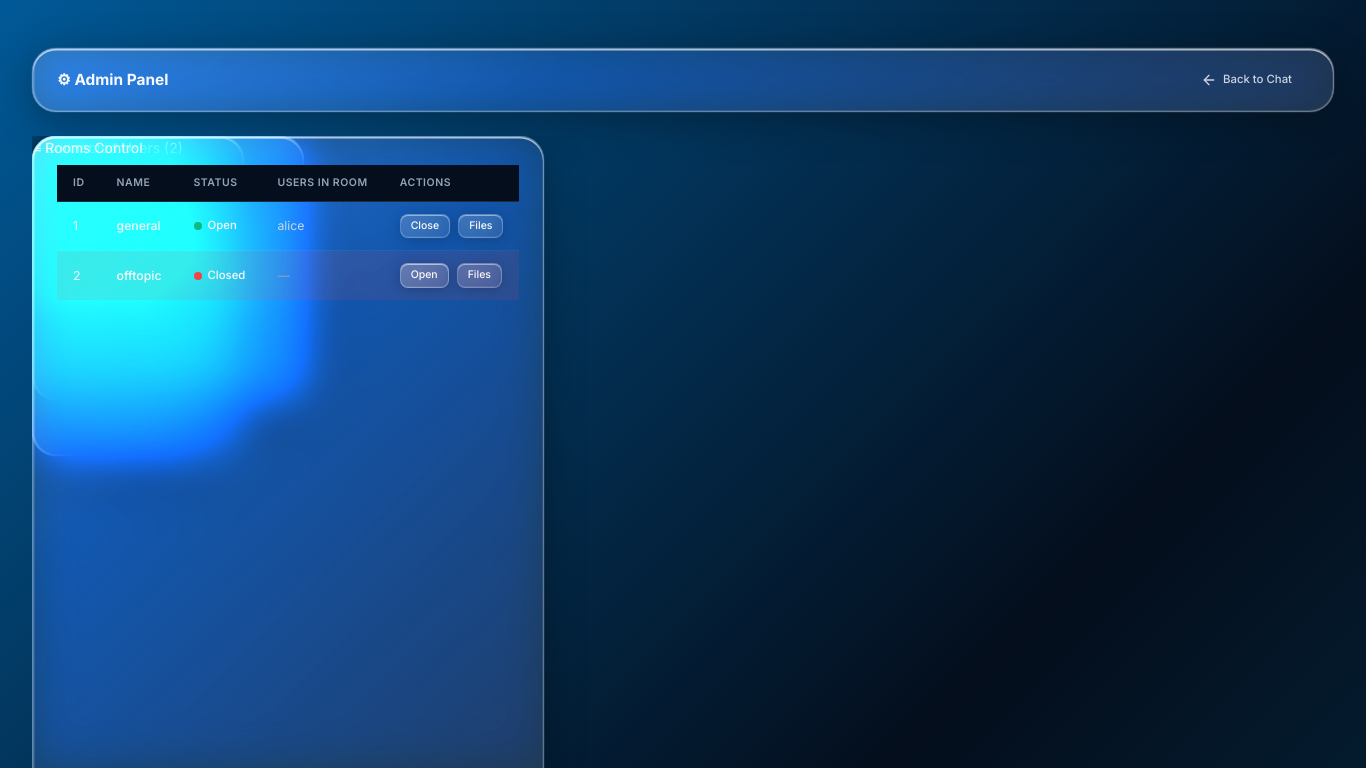
Test: AdminPage › hides Files panel when Files button is clicked a second time
Check: the text "general" is shown, box 100,202 -> 178,252
// First click: expand
Click the button "Files" in the row of "general" at coordinates (481, 226), box 458,214 -> 504,238
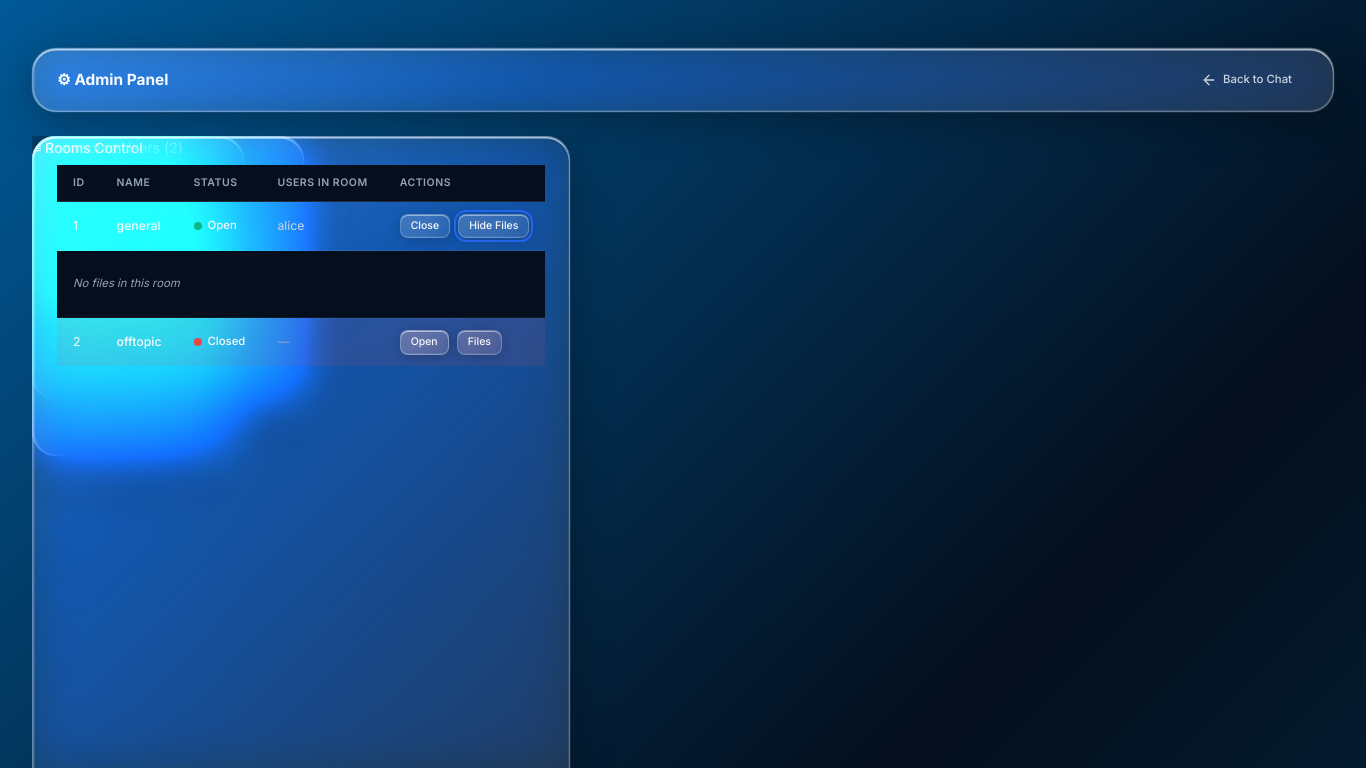
Check: the text "No files in this room" is shown, box 73,276 -> 180,290
// Second click: collapse
Click the button "Hide Files" at coordinates (494, 226), box 458,214 -> 529,238
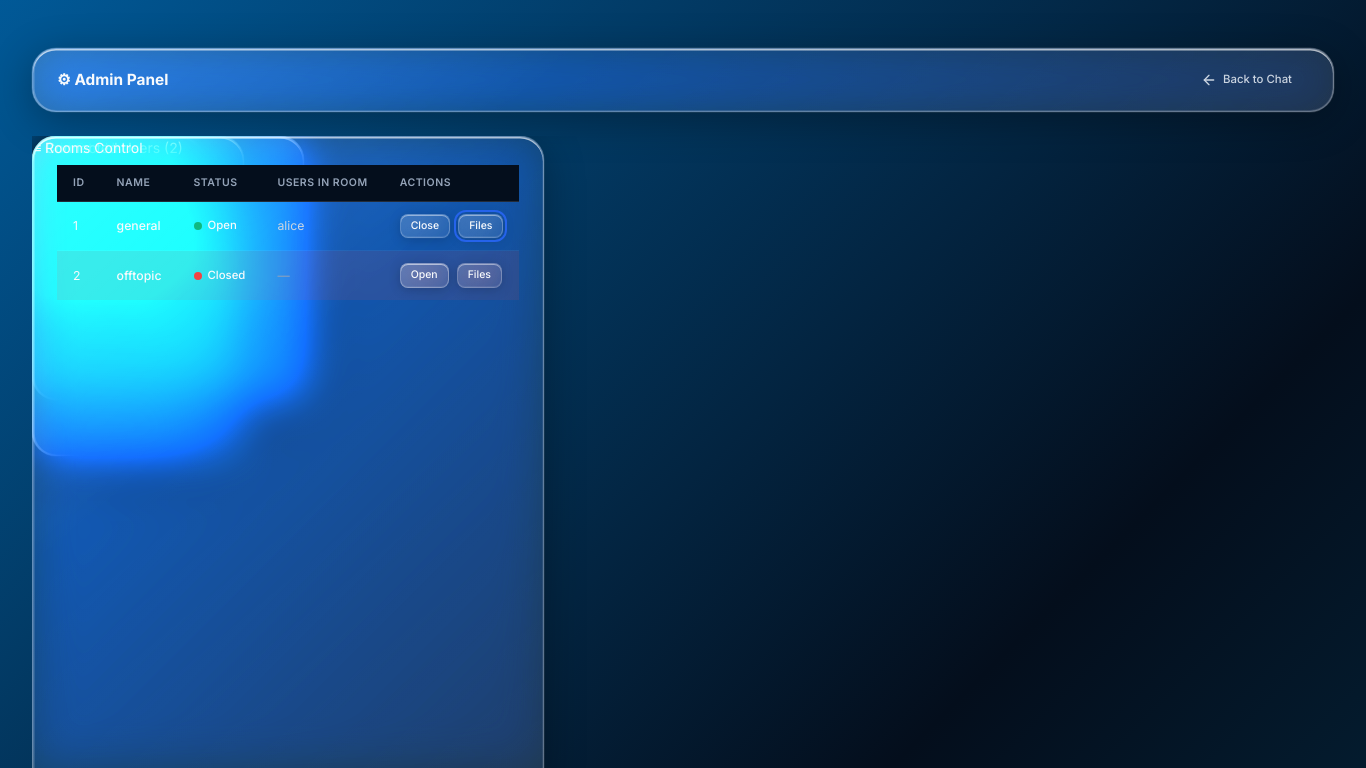
Check: the text "No files" is gone
